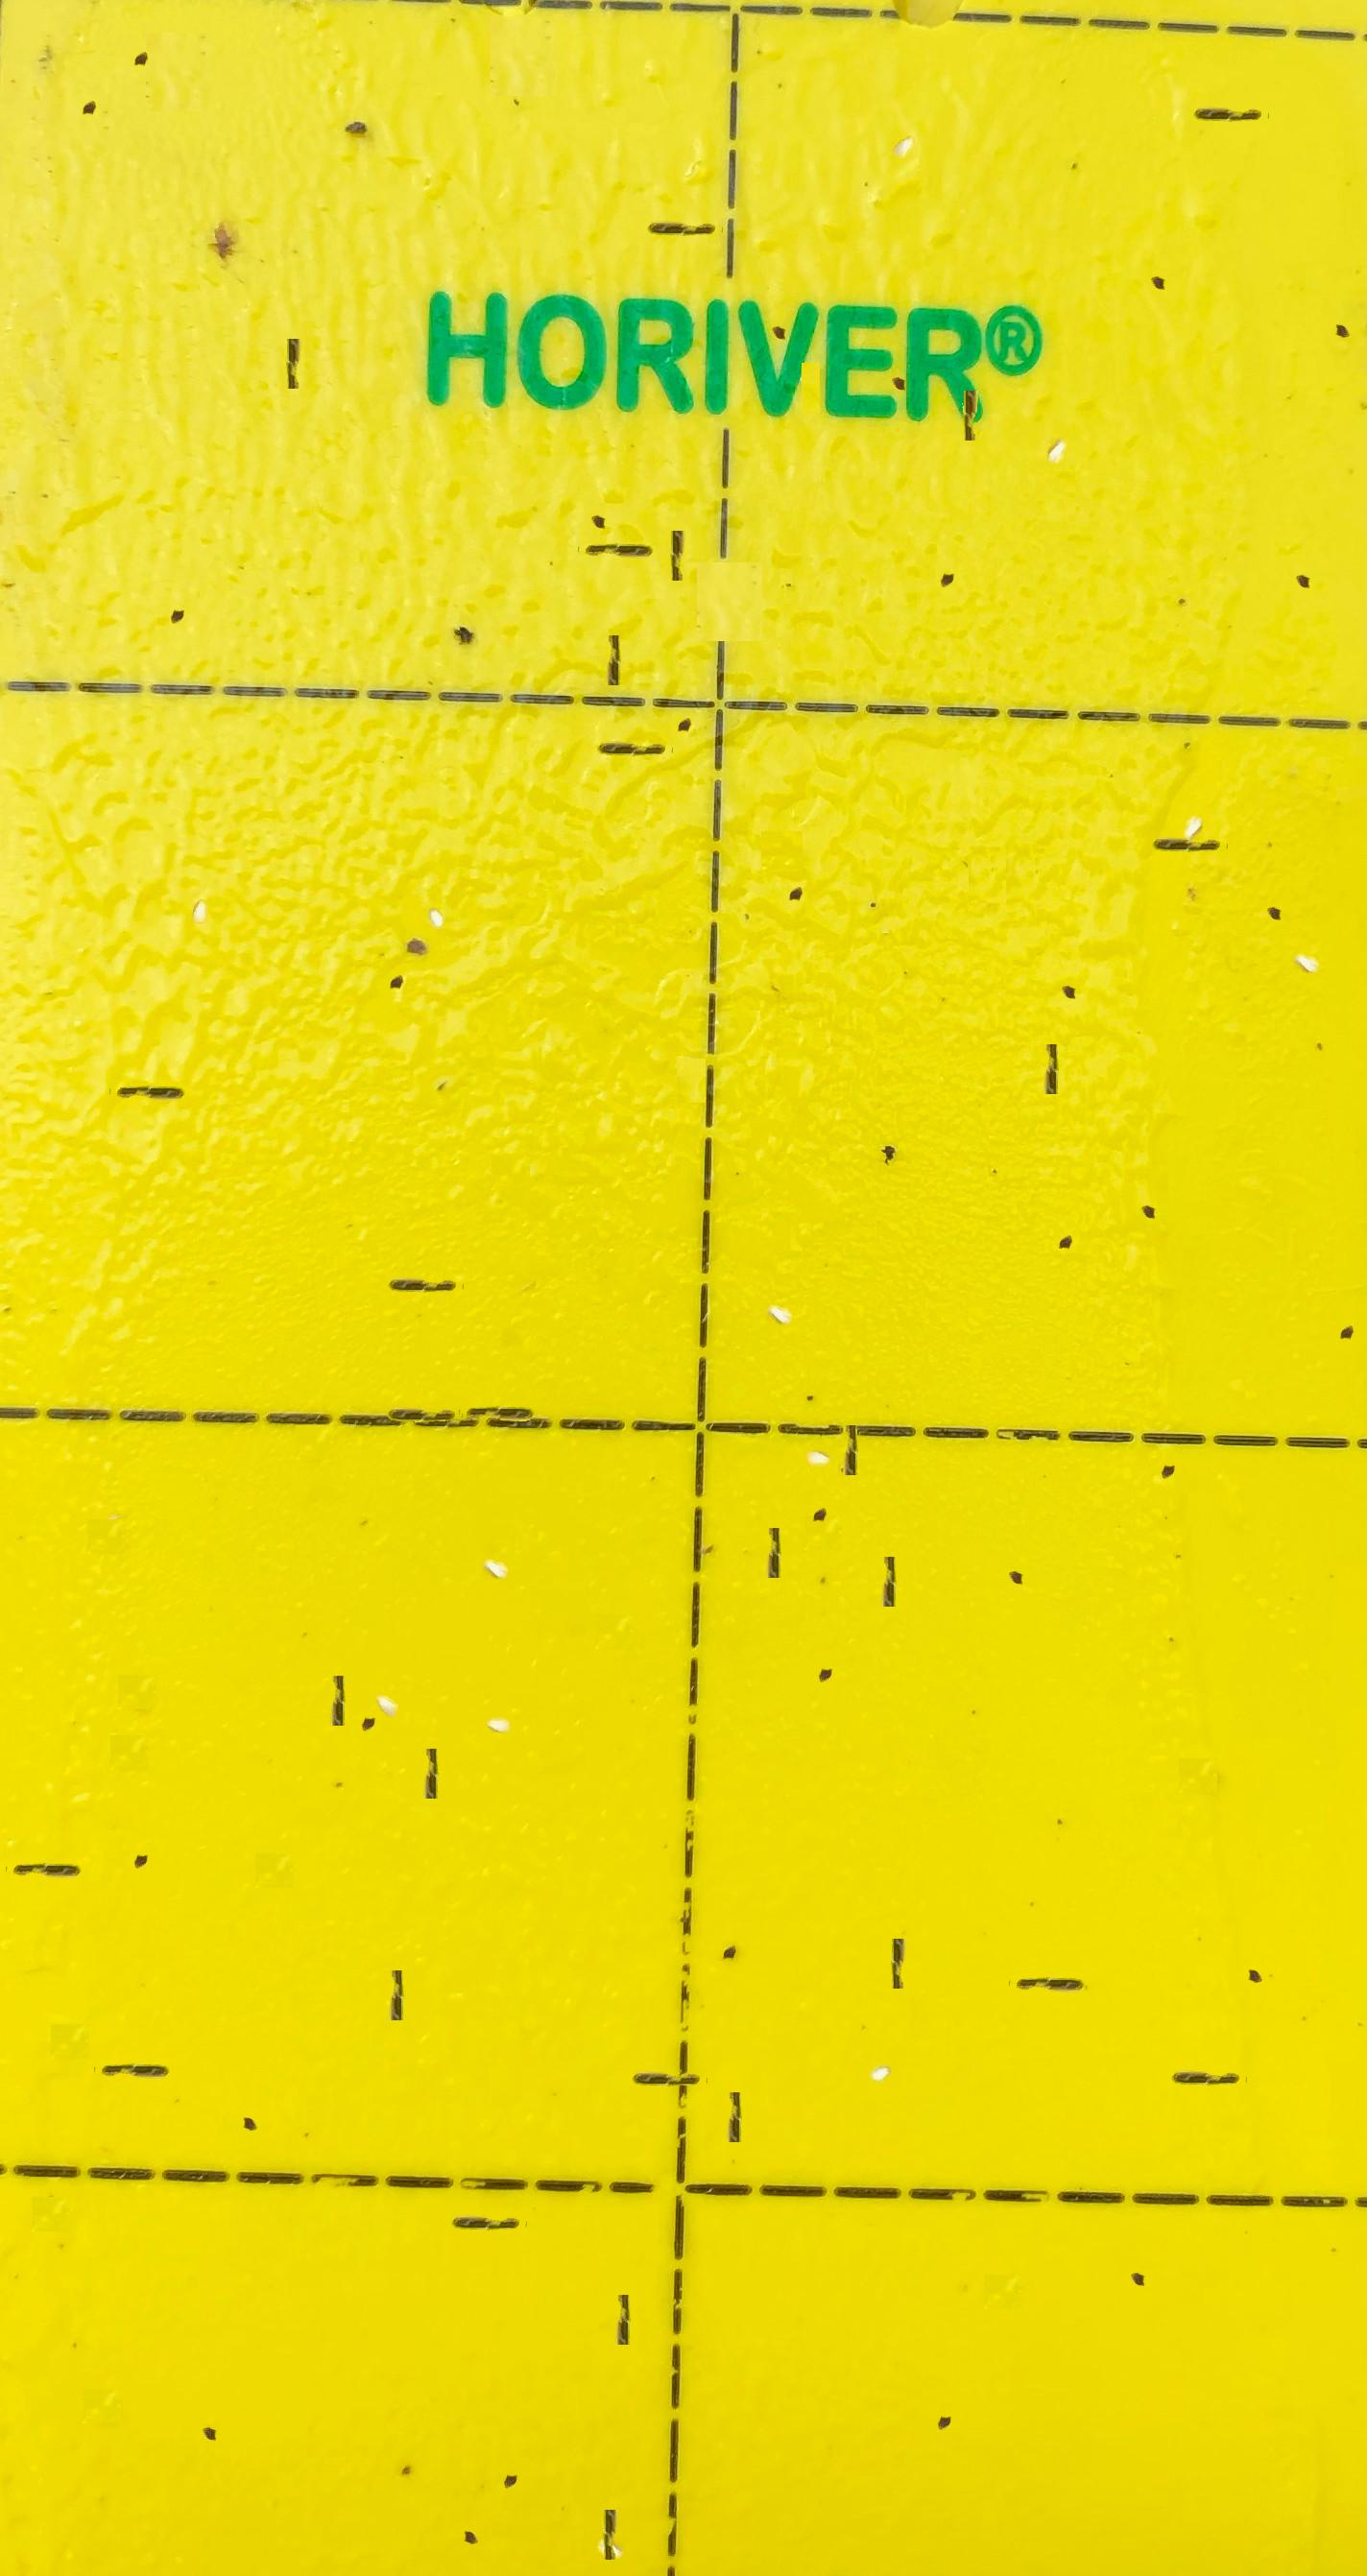white_fly: (414, 847, 457, 896), (1289, 894, 1331, 940), (1038, 387, 1081, 433), (477, 1499, 520, 1545), (859, 2002, 900, 2050), (586, 2482, 629, 2527), (762, 1245, 803, 1291), (1171, 756, 1212, 802), (366, 1642, 409, 1685), (883, 83, 924, 126), (796, 1400, 839, 1438), (479, 1671, 520, 1709), (177, 857, 218, 894)
